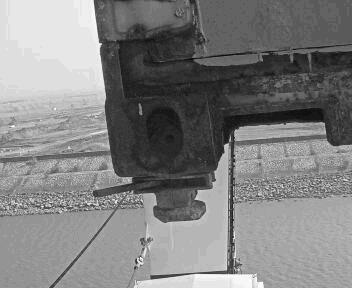twist_lock_1: (45, 164, 153, 234)
